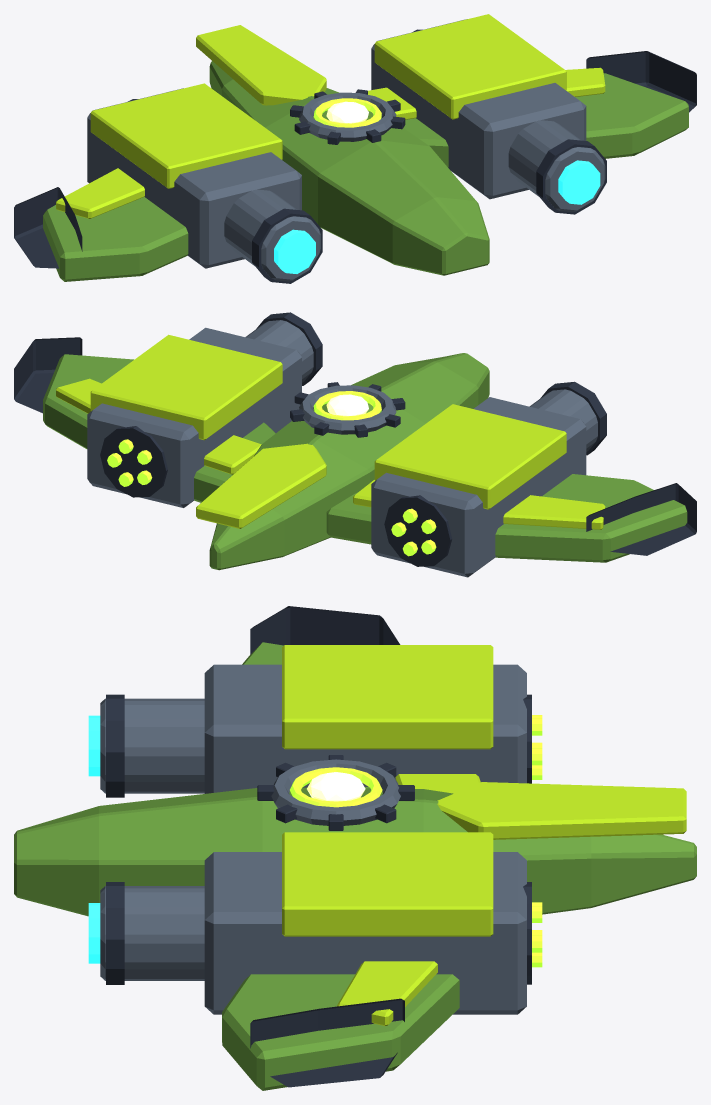
The model's file is bomber_enemy.glb.
3 renders of one model, top to bottom at view 1: azimuth 30°, elevation 25°; view 2: azimuth 150°, elevation 25°; view 3: azimuth 270°, elevation 25°, orthographic. The views are drawn at different scales.
Visible parts, largest first — view 1: bomber_enemy__Verdant_Hull, bomber_enemy__Verdant_Accent, bomber_enemy__Verdant_Gunmetal, bomber_enemy__Verdant_Void, bomber_enemy__Verdant_CyanSystems, bomber_enemy__Verdant_Energy, bomber_enemy__Verdant_HotCore; view 2: bomber_enemy__Verdant_Accent, bomber_enemy__Verdant_Hull, bomber_enemy__Verdant_Gunmetal, bomber_enemy__Verdant_Void, bomber_enemy__Verdant_Energy, bomber_enemy__Verdant_HotCore; view 3: bomber_enemy__Verdant_Gunmetal, bomber_enemy__Verdant_Accent, bomber_enemy__Verdant_Hull, bomber_enemy__Verdant_Void, bomber_enemy__Verdant_Energy, bomber_enemy__Verdant_CyanSystems, bomber_enemy__Verdant_HotCore.
Boxes of the visible parts, x1,y1,x2,y2 form: bomber_enemy__Verdant_Hull: (43,61,688,281); bomber_enemy__Verdant_Accent: (56,14,605,218); bomber_enemy__Verdant_Gunmetal: (87,19,605,281); bomber_enemy__Verdant_Void: (14,29,696,283); bomber_enemy__Verdant_CyanSystems: (274,160,600,273); bomber_enemy__Verdant_Energy: (313,98,381,127); bomber_enemy__Verdant_HotCore: (326,101,368,123); bomber_enemy__Verdant_Accent: (56,334,605,529); bomber_enemy__Verdant_Hull: (43,353,687,570); bomber_enemy__Verdant_Gunmetal: (87,320,597,577); bomber_enemy__Verdant_Void: (14,312,696,566); bomber_enemy__Verdant_Energy: (107,391,436,556); bomber_enemy__Verdant_HotCore: (326,394,368,416); bomber_enemy__Verdant_Gunmetal: (100,664,526,1014); bomber_enemy__Verdant_Accent: (282,645,686,1025); bomber_enemy__Verdant_Hull: (14,642,696,1090); bomber_enemy__Verdant_Void: (106,606,531,1087); bomber_enemy__Verdant_Energy: (290,715,542,967); bomber_enemy__Verdant_CyanSystems: (88,715,100,963); bomber_enemy__Verdant_HotCore: (307,772,365,801).
Bounding box in the file's own units: 8.03 × 1.04 × 5.3.
